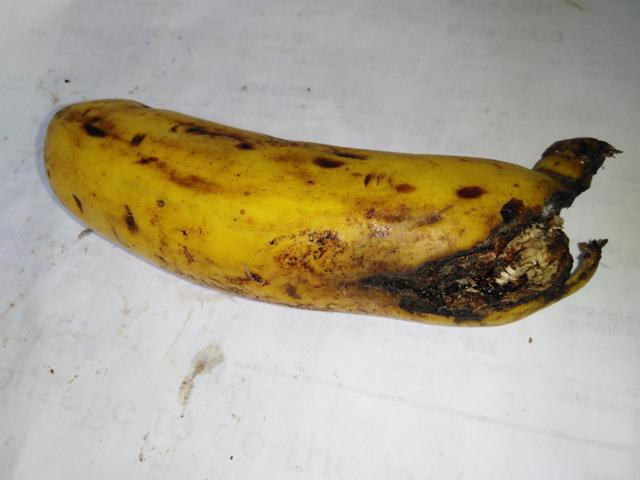ripe: (34, 91, 417, 323)
rotten: (366, 145, 613, 352)
